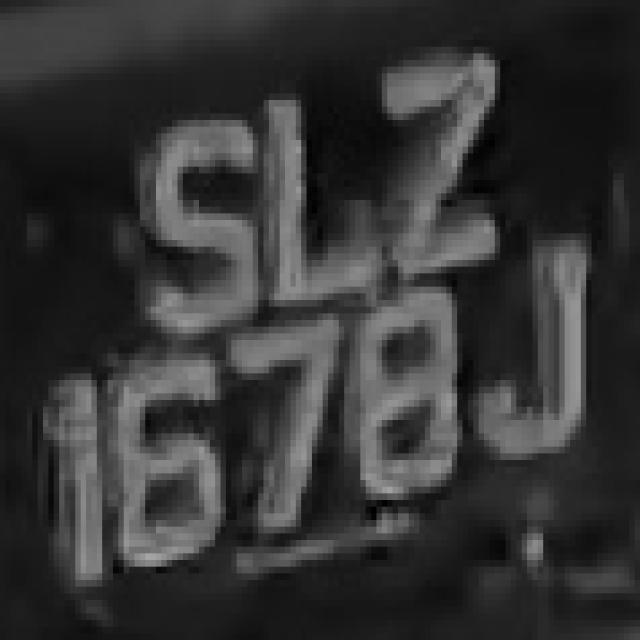1: (43, 360, 118, 593)
6: (113, 327, 220, 593)
7: (210, 320, 350, 553)
8: (328, 287, 463, 520)
J: (468, 200, 608, 460)
L: (258, 60, 404, 320)
S: (134, 87, 264, 353)
Z: (360, 40, 522, 287)
